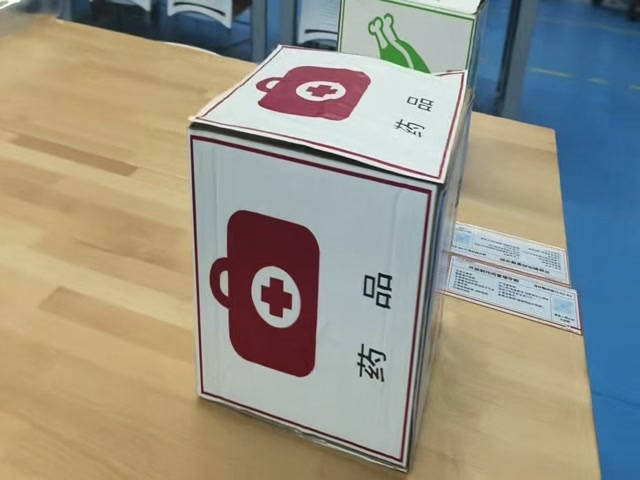Cube_medicine: (181, 49, 470, 189)
